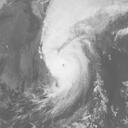cyclone: (47, 47, 84, 87)
